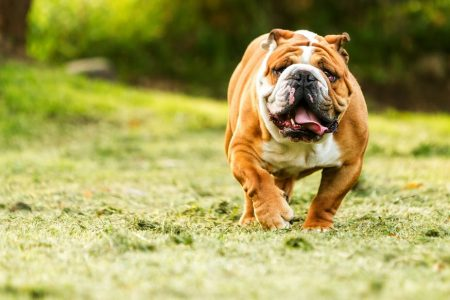dog: (204, 24, 376, 237)
